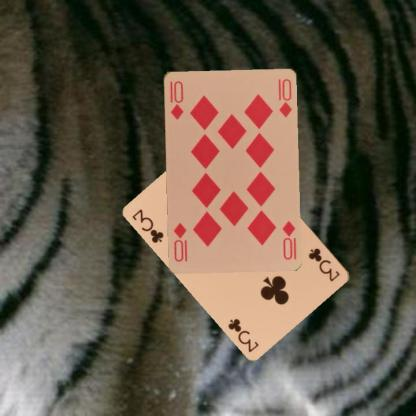10d: (280, 217, 297, 261), (167, 78, 184, 121)
3c: (129, 206, 166, 244), (306, 245, 341, 283)
